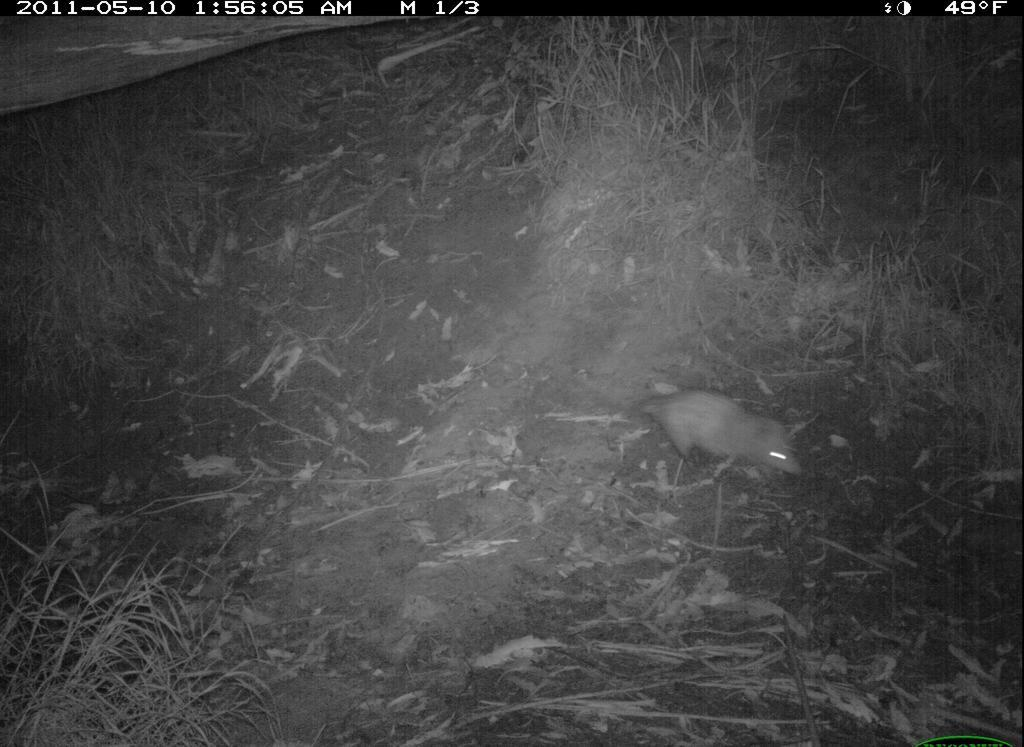opossum: (612, 365, 826, 496)
